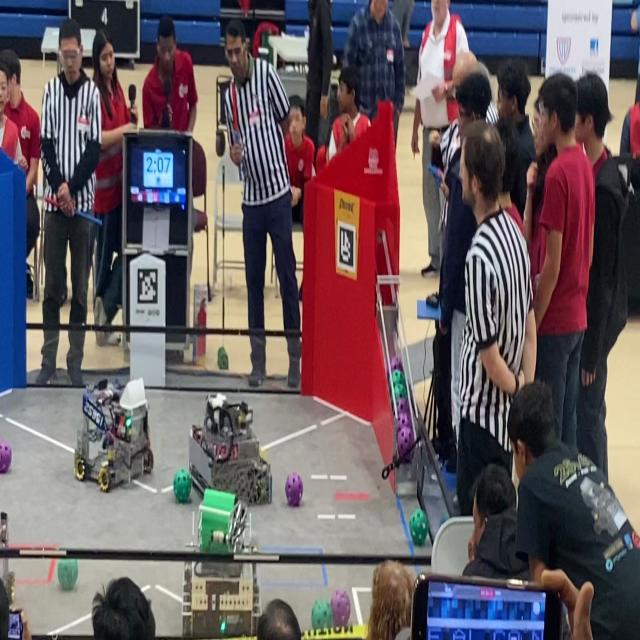artifact_green: (409, 509, 428, 546), (57, 559, 78, 591), (312, 599, 332, 629), (173, 470, 191, 503), (216, 131, 225, 157), (218, 347, 228, 370), (394, 383, 406, 399), (392, 371, 405, 385), (439, 514, 449, 528), (440, 513, 450, 526)
artifact_purple: (331, 590, 350, 627), (397, 427, 414, 463), (285, 472, 302, 506), (0, 441, 12, 474), (398, 412, 411, 430), (397, 399, 409, 414), (391, 356, 403, 371)
